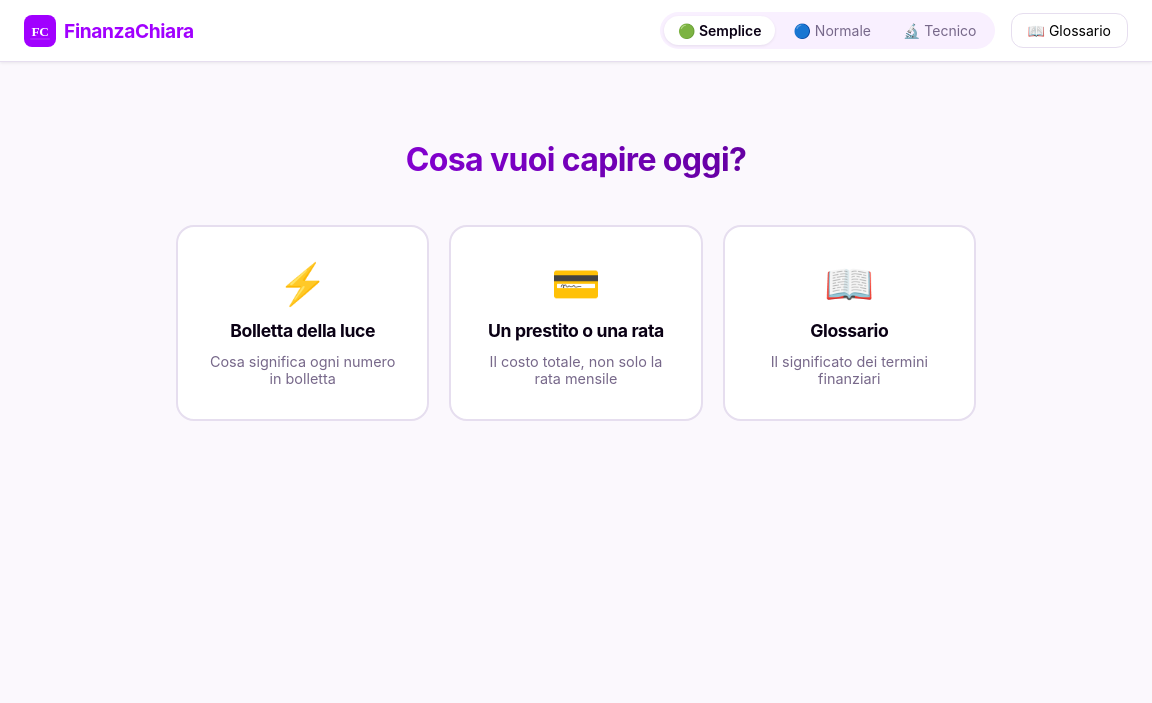
Test case: Flusso utente completo › una voce di bolletta apre la spiegazione corrispondente
Click the heading "Bolletta della luce" at (303, 331), box [230,320,375,341]
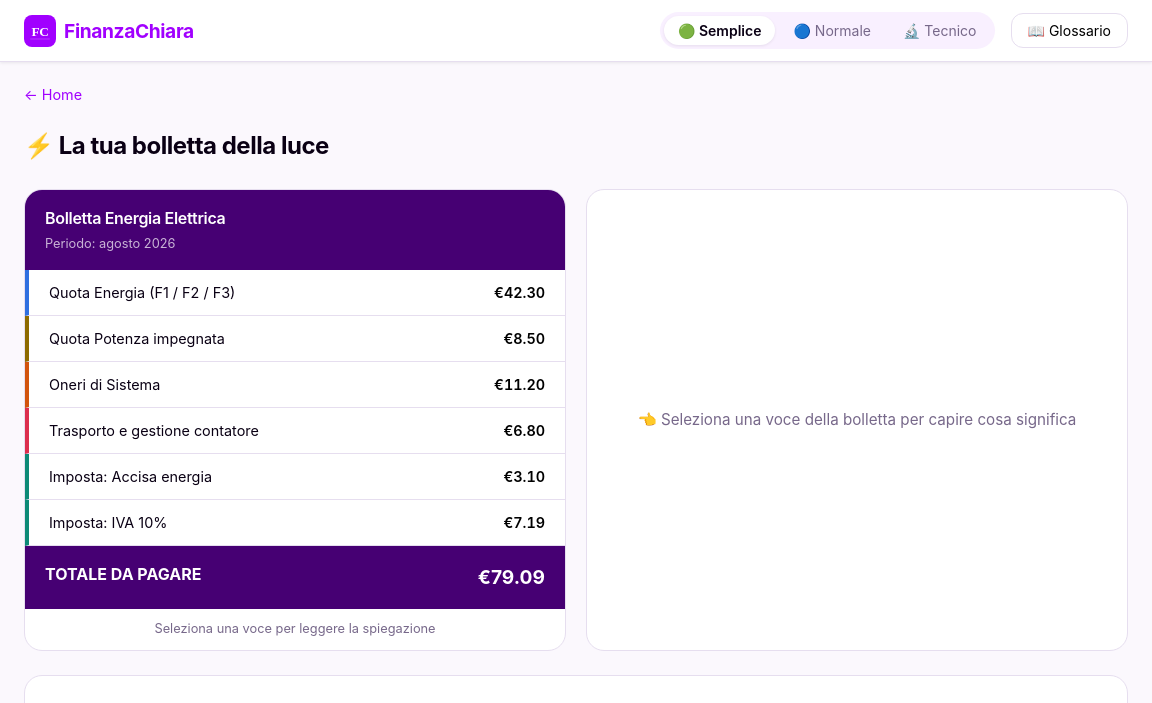
Expected: the heading "⚡ La tua bolletta della luce" is shown, [24,131,329,160]
Click the text "Oneri di Sistema" at (105, 385), box [49,376,160,394]
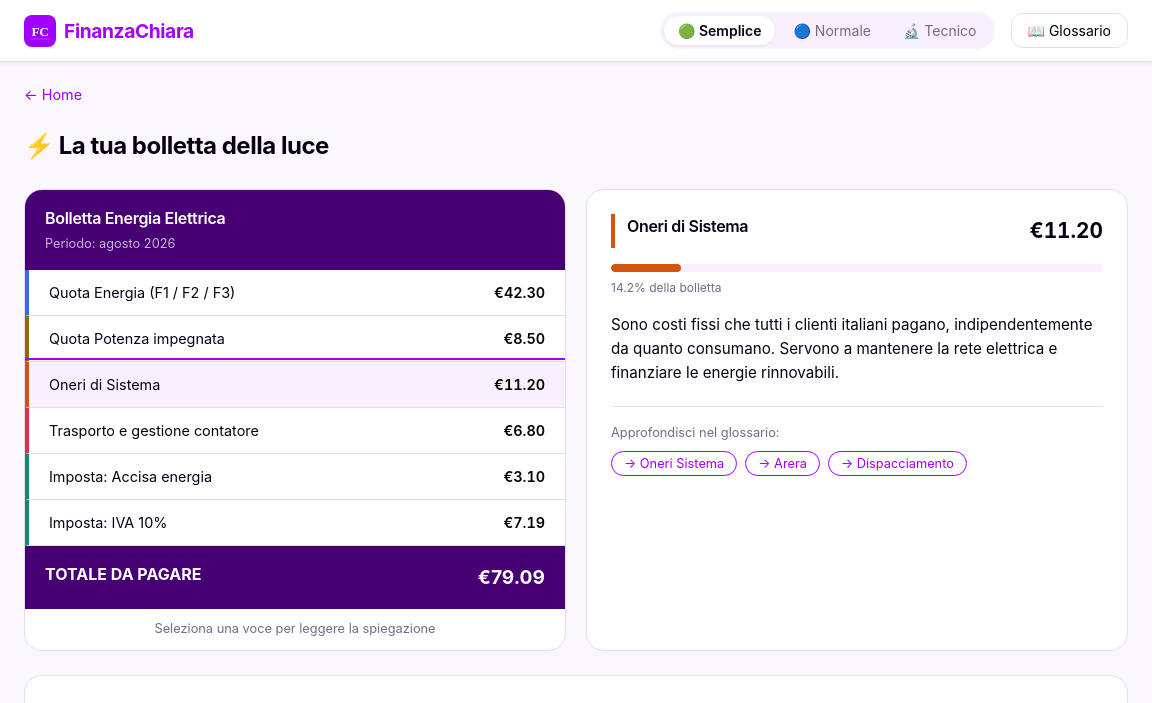
Expected: the text "Sono costi fissi che tutti i clienti italiani pagano" is shown, [611,315,1092,382]
